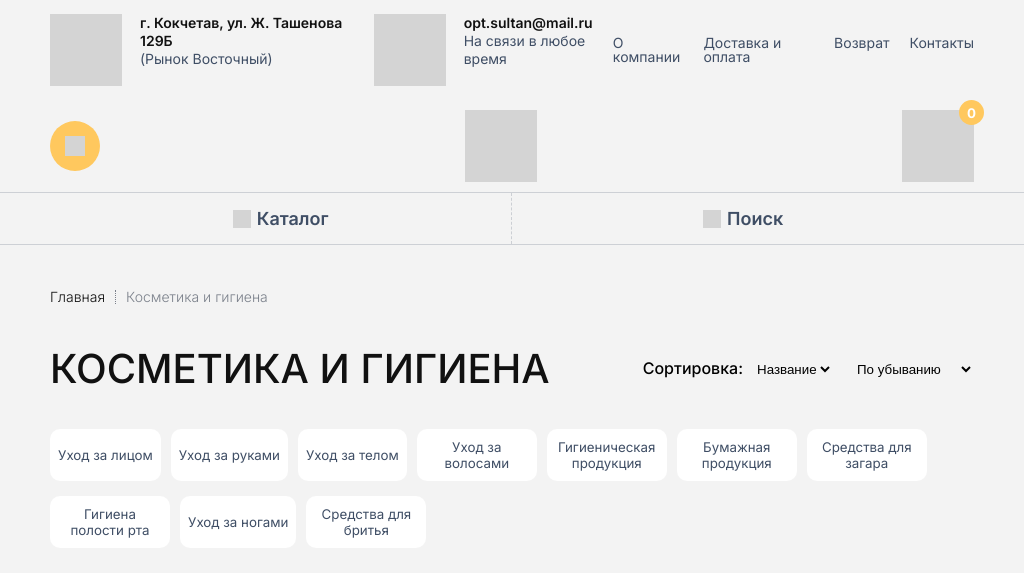
ROUTER TESTS › click basket-link should render basket-page
Click the button with test id "basket-link".
click(938, 146)  # box x1=902 y1=110 x2=974 y2=182
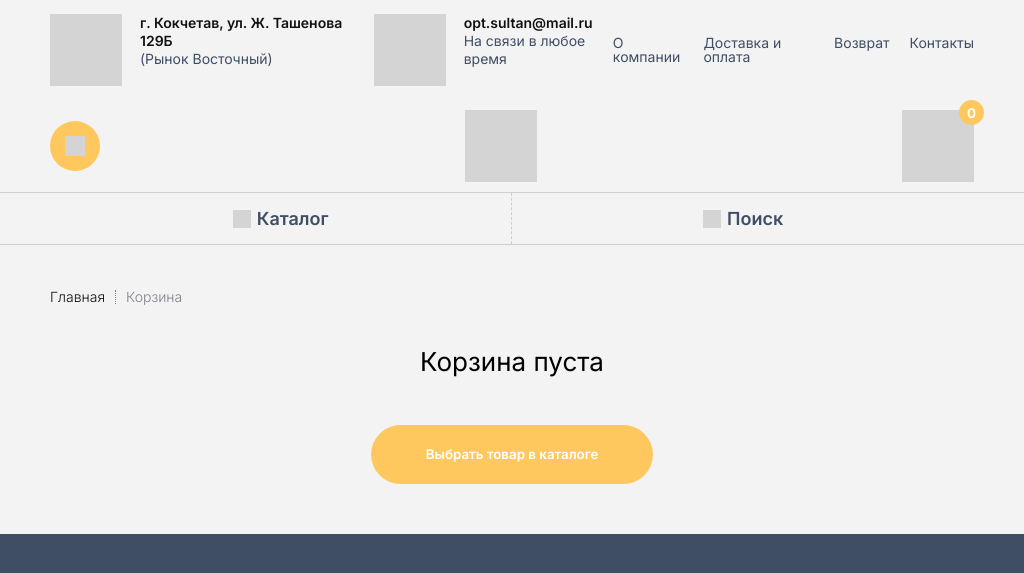
Now the element with test id "basket-page" is shown, box x1=50 y1=288 x2=653 y2=484
